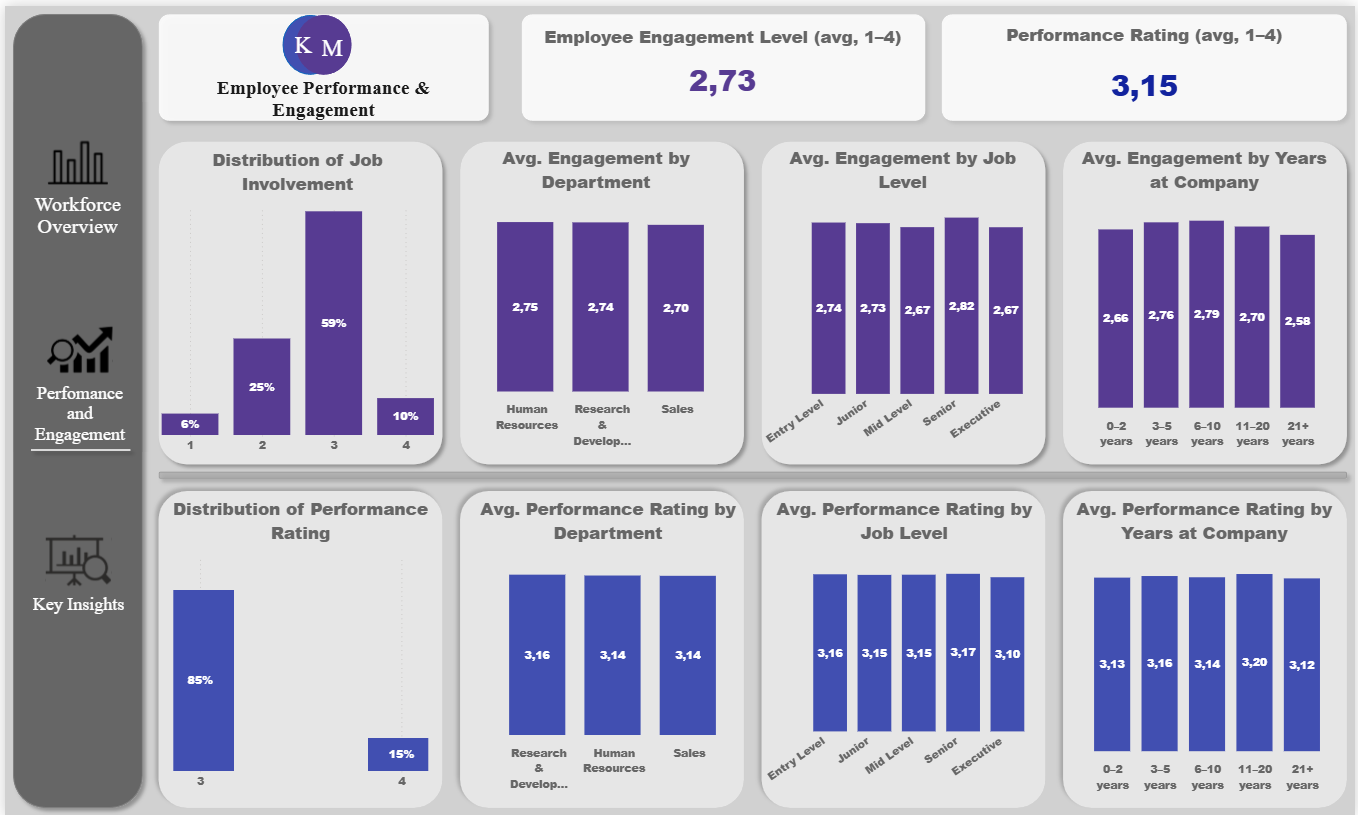

The dashboard page shown, as its layout file describes it:
{"tool":"powerbi","page":{"name":"Employee Performance & Engagement","canvas":[1500,900],"ordinal":1},"visuals":[{"type":"shape","box":[161.7,0,385,136.7],"z":0},{"type":"shape","box":[565,0,466.7,136.7],"z":0,"group":"g3"},{"type":"textbox","box":[316.7,21.7,41,46.1],"z":0,"group":"g5"},{"type":"shape","box":[161.7,141.7,333.3,376.7],"z":0,"group":"g2"},{"type":"shape","box":[161.7,530,333.3,370],"z":0,"group":"g1"},{"type":"textbox","box":[346.7,25.6,41,46.1],"z":1000,"group":"g5"},{"type":"shape","box":[496.7,141.7,333.3,376.7],"z":1000,"group":"g2"},{"type":"group","id":"g1","title":"Grupa 2","box":[161.7,530,1338.3,370],"z":1000},{"type":"shape","box":[496.7,530,333.3,370],"z":1000,"group":"g1"},{"type":"group","id":"g2","title":"Grupa 2","box":[161.7,141.7,1338.3,376.7],"z":2000},{"type":"shape","box":[831.7,141.7,333.3,376.7],"z":2000,"group":"g2"},{"type":"shape","box":[831.7,530,333.3,370],"z":2000,"group":"g1"},{"type":"shape","box":[0,0,162,900],"z":3000},{"type":"shape","box":[1166.7,141.7,333.3,376.7],"z":3000,"group":"g2"},{"type":"shape","box":[1166.7,530,333.3,370],"z":3000,"group":"g1"},{"type":"shape","box":[1031.7,0,468.3,136.7],"z":4000},{"type":"group","id":"g3","title":"Grupa 1","box":[565,0,466.7,136.7],"z":5000},{"type":"cardVisual","title":"Employee Engagement Level (avg, 1–4)","fields":{"Data":["Measure Table.Average Job Involvement"]},"box":[588.3,20,418.3,98.3],"z":6000},{"type":"cardVisual","title":"Performance Rating (avg, 1–4)","fields":{"Data":["Measure Table.Average Performance Rating"]},"box":[1078.3,18.3,375,115],"z":7000},{"type":"clusteredColumnChart","title":"Avg. Engagement by Department","fields":{"Category":["Human_Resources.Department"],"Y":["Measure Table.Average Job Involvement"]},"box":[495,155,323.3,345],"z":9000},{"type":"clusteredColumnChart","title":"Distribution of Performance Rating","fields":{"Y":["Measure Table.Percent of Rating"],"Category":["Human_Resources.PerformanceRating"]},"box":[181.7,545,293.3,336.7],"z":10000},{"type":"clusteredColumnChart","title":"Distribution of Job Involvement","fields":{"Y":["Measure Table.Percent of Job Involvement"],"Category":["Human_Resources.JobInvolvement"]},"box":[168.3,156.7,313.3,351.7],"z":11000},{"type":"clusteredColumnChart","title":"Avg. Performance Rating by Department","fields":{"Category":["Human_Resources.Department"],"Y":["Measure Table.Average Performance Rating"]},"box":[508.3,545,323.3,336.7],"z":12000},{"type":"clusteredColumnChart","title":"Avg. Engagement by Job Level","fields":{"Y":["Measure Table.Average Job Involvement"],"Category":["Human_Resources.Job_Level_"]},"box":[838.3,155,318.3,351.7],"z":13000},{"type":"clusteredColumnChart","title":"Avg. Performance Rating by Job Level","fields":{"Category":["Human_Resources.Job_Level_"],"Y":["Measure Table.Average Performance Rating"]},"box":[840,545,318.3,336.7],"z":14000},{"type":"clusteredColumnChart","title":"Avg. Engagement by Years at Company","fields":{"Y":["Measure Table.Average Job Involvement"],"Category":["Human_Resources.Years at Company Descr. "]},"box":[1183.3,155,298.3,345],"z":15000},{"type":"clusteredColumnChart","title":"Avg. Performance Rating by Years at Company","fields":{"Y":["Measure Table.Average Performance Rating"],"Category":["Human_Resources.Years at Company Descr. "]},"box":[1176.7,545,311.7,336.7],"z":16000},{"type":"group","id":"g4","title":"Grupa 3","box":[308.3,10,76.7,66.7],"z":17000},{"type":"shape","box":[308.3,10,61.7,66.4],"z":17000,"group":"g4"},{"type":"group","id":"g5","title":"Grupa 2","box":[316.7,21.7,71.7,50],"z":18000},{"type":"shape","box":[322.7,10,61.7,66.4],"z":18001,"group":"g4"},{"type":"textbox","box":[171.7,78.3,365,63.3],"z":19000},{"type":"shape","box":[161.7,508.3,1338.3,26],"z":20000},{"type":"actionButton","title":"Workforce Overview ","box":[15,116.7,131.7,165],"z":21000},{"type":"actionButton","box":[20,336.7,126.7,158.3],"z":22000},{"type":"actionButton","box":[18.3,548.3,126.7,158.3],"z":23000},{"type":"shape","box":[20,468.3,128.3,50],"z":24000}]}

Visuals, with their boxes in screenshot pixels (x1, y1, x2, y2), scaled from the page's 1500x900 canvas onto the 1358x815 screenshot:
shape: box(146, 0, 495, 124)
shape: box(512, 0, 934, 124)
textbox: box(287, 20, 324, 61)
shape: box(146, 128, 448, 469)
shape: box(146, 480, 448, 814)
textbox: box(314, 23, 351, 65)
shape: box(450, 128, 751, 469)
"Grupa 2" group: box(146, 480, 1357, 814)
shape: box(450, 480, 751, 814)
"Grupa 2" group: box(146, 128, 1357, 469)
shape: box(753, 128, 1055, 469)
shape: box(753, 480, 1055, 814)
shape: box(0, 0, 147, 814)
shape: box(1056, 128, 1357, 469)
shape: box(1056, 480, 1357, 814)
shape: box(934, 0, 1357, 124)
"Grupa 1" group: box(512, 0, 934, 124)
"Employee Engagement Level (avg, 1–4)" cardVisual: box(533, 18, 911, 107)
"Performance Rating (avg, 1–4)" cardVisual: box(976, 17, 1316, 121)
"Avg. Engagement by Department" clusteredColumnChart: box(448, 140, 741, 453)
"Distribution of Performance Rating" clusteredColumnChart: box(164, 494, 430, 798)
"Distribution of Job Involvement" clusteredColumnChart: box(152, 142, 436, 460)
"Avg. Performance Rating by Department" clusteredColumnChart: box(460, 494, 753, 798)
"Avg. Engagement by Job Level" clusteredColumnChart: box(759, 140, 1047, 459)
"Avg. Performance Rating by Job Level" clusteredColumnChart: box(760, 494, 1049, 798)
"Avg. Engagement by Years at Company" clusteredColumnChart: box(1071, 140, 1341, 453)
"Avg. Performance Rating by Years at Company" clusteredColumnChart: box(1065, 494, 1347, 798)
"Grupa 3" group: box(279, 9, 349, 69)
shape: box(279, 9, 335, 69)
"Grupa 2" group: box(287, 20, 352, 65)
shape: box(292, 9, 348, 69)
textbox: box(155, 71, 486, 128)
shape: box(146, 460, 1357, 484)
"Workforce Overview " actionButton: box(14, 106, 133, 255)
actionButton: box(18, 305, 133, 448)
actionButton: box(17, 497, 131, 640)
shape: box(18, 424, 134, 469)
